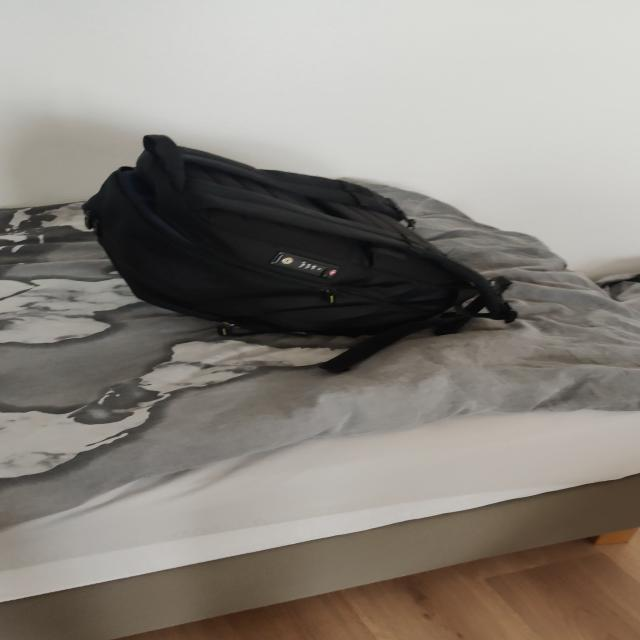backpack: (74, 129, 514, 365)
